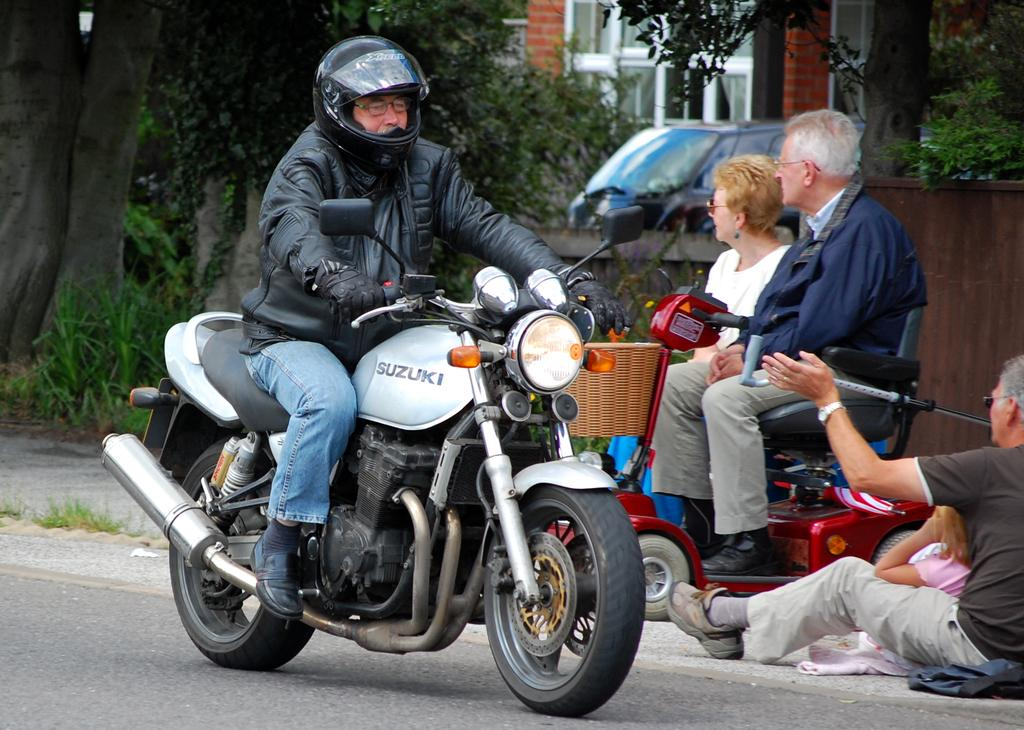helmet: (311, 35, 430, 169)
nohelmet: (772, 108, 863, 216), (706, 154, 788, 249), (985, 353, 1024, 454)
